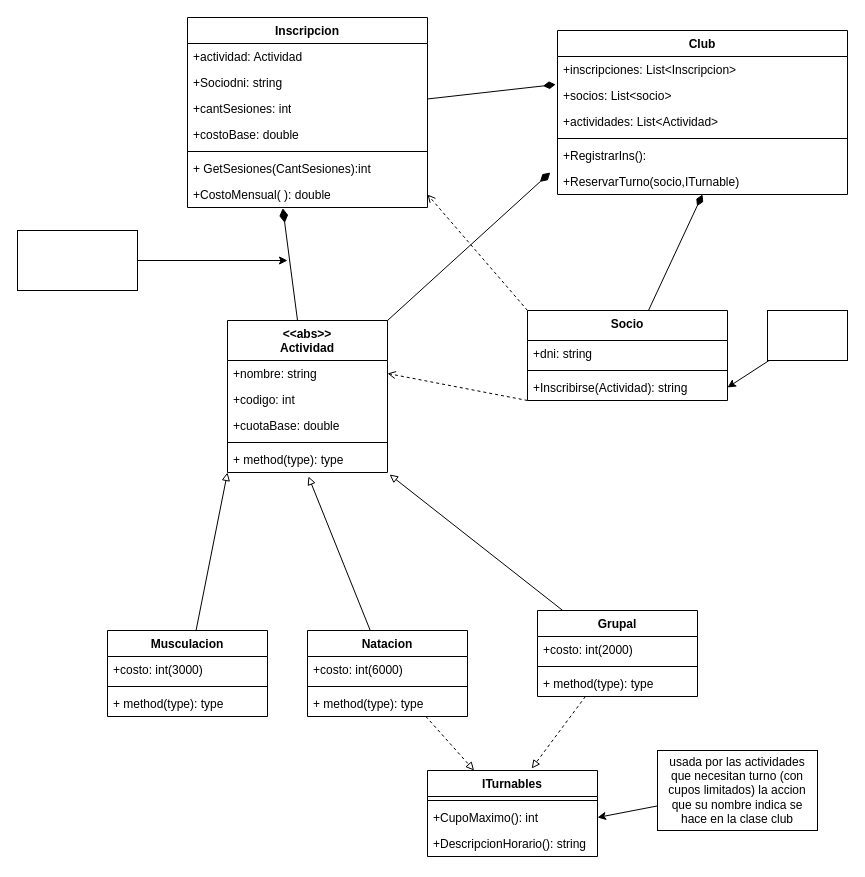
The diagram is 865 pixels wide and 877 high, and some of its shapes have lost their labels. Each missing label, with the centre of its shape:
"(inscripcion)necesita actividad para funcionar" goes at [77,260].
"se crea un nuevo registro inscripcion" goes at [807,335].
